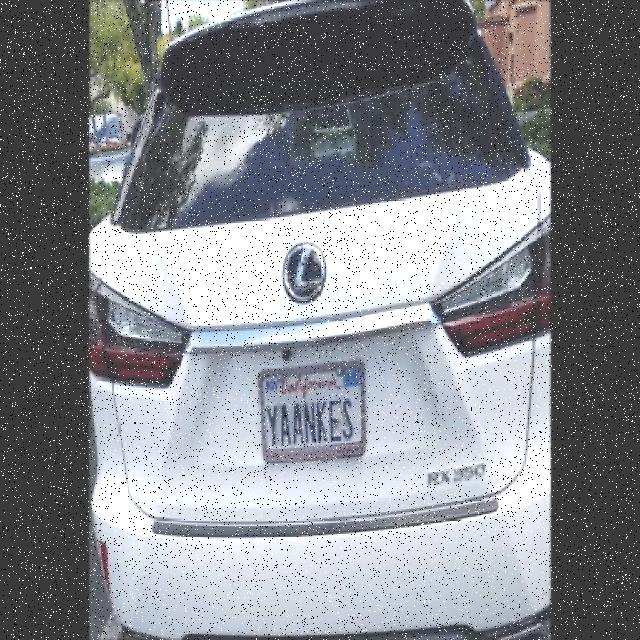licenseplate: (256, 364, 367, 459)
